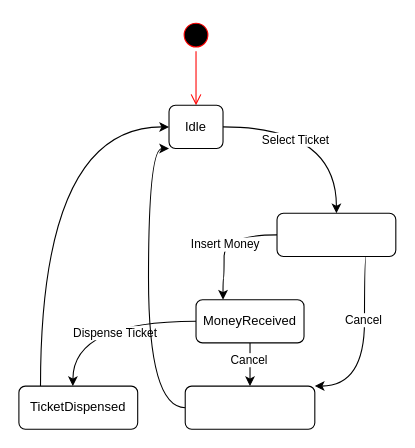
Some shapes in this 415 by 448 pixel diagram are drawn without their labels. Each missing label, with the box of its shape:
TransactionCanceled: (184, 385, 315, 429)
WaitingForMoney: (276, 212, 396, 256)
